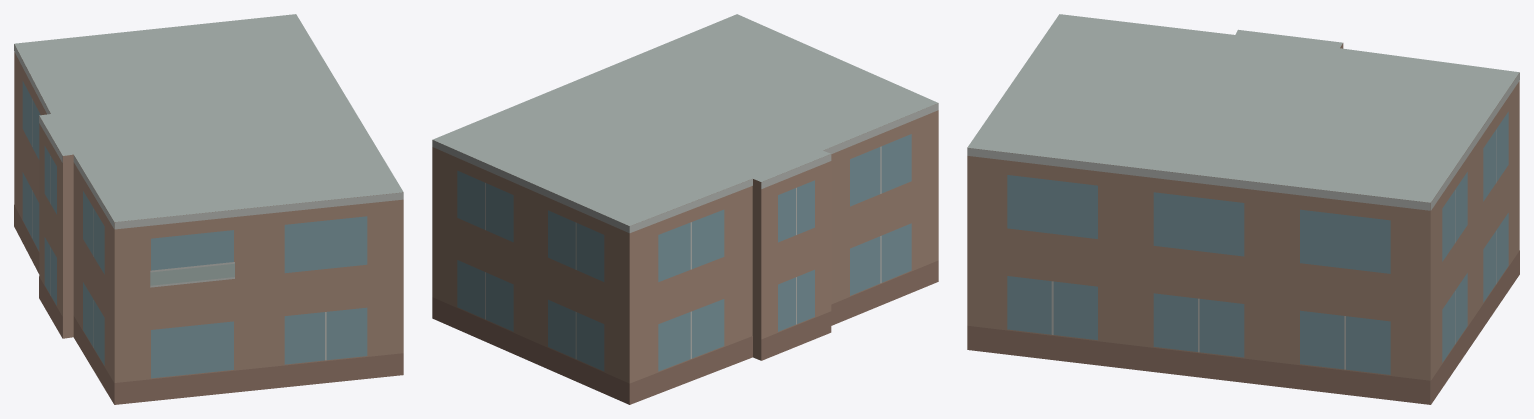
File: survey-upis-32691908.glb
The picture shows the model from 3 angles, left to right: view 1: azimuth 30°, elevation 25°; view 2: azimuth 150°, elevation 25°; view 3: azimuth 270°, elevation 25°; orthographic projection. The views are drawn at different scales.
Visible parts, largest first — view 1: survey-upis-32691908.tmp; view 2: survey-upis-32691908.tmp; view 3: survey-upis-32691908.tmp.
Part boxes in pixels (box(x1,y1,x2,y2)): survey-upis-32691908.tmp: box(14, 14, 403, 404); survey-upis-32691908.tmp: box(432, 14, 938, 404); survey-upis-32691908.tmp: box(967, 14, 1519, 404).
Size of the model in its own units: 12.23 by 6.1 by 15.13.
